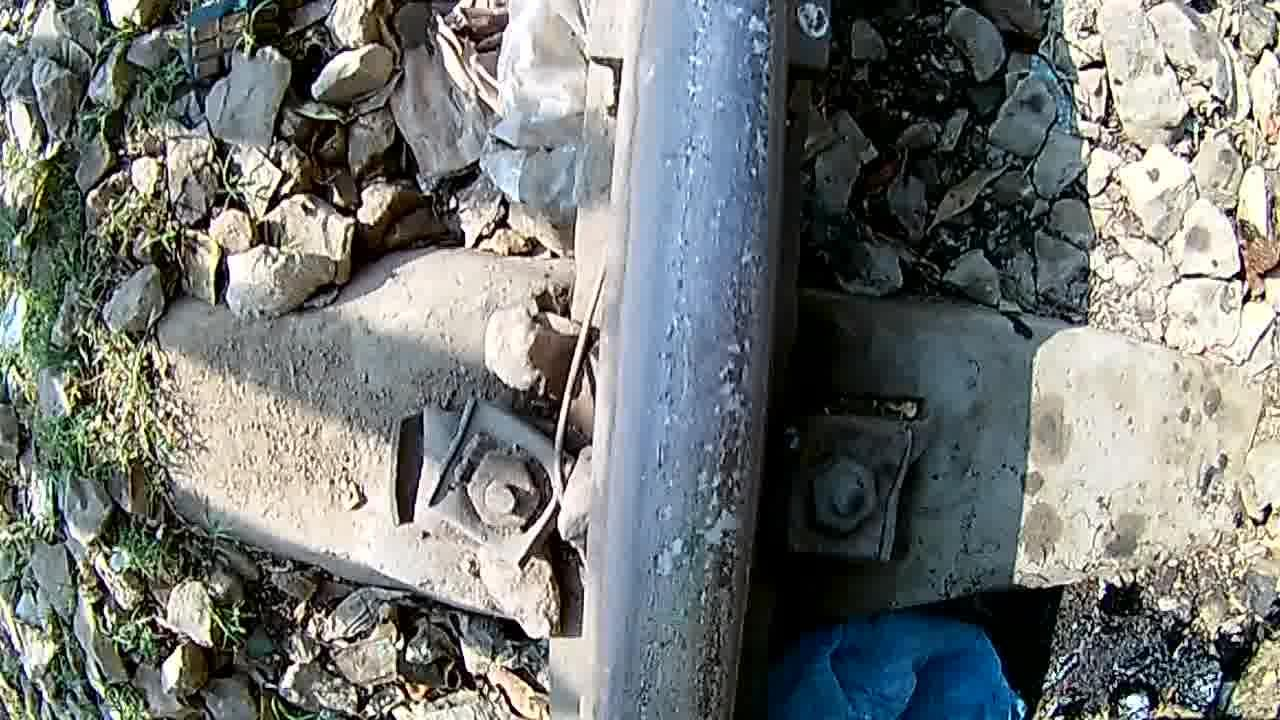clip_missing: (598, 0, 786, 720)
